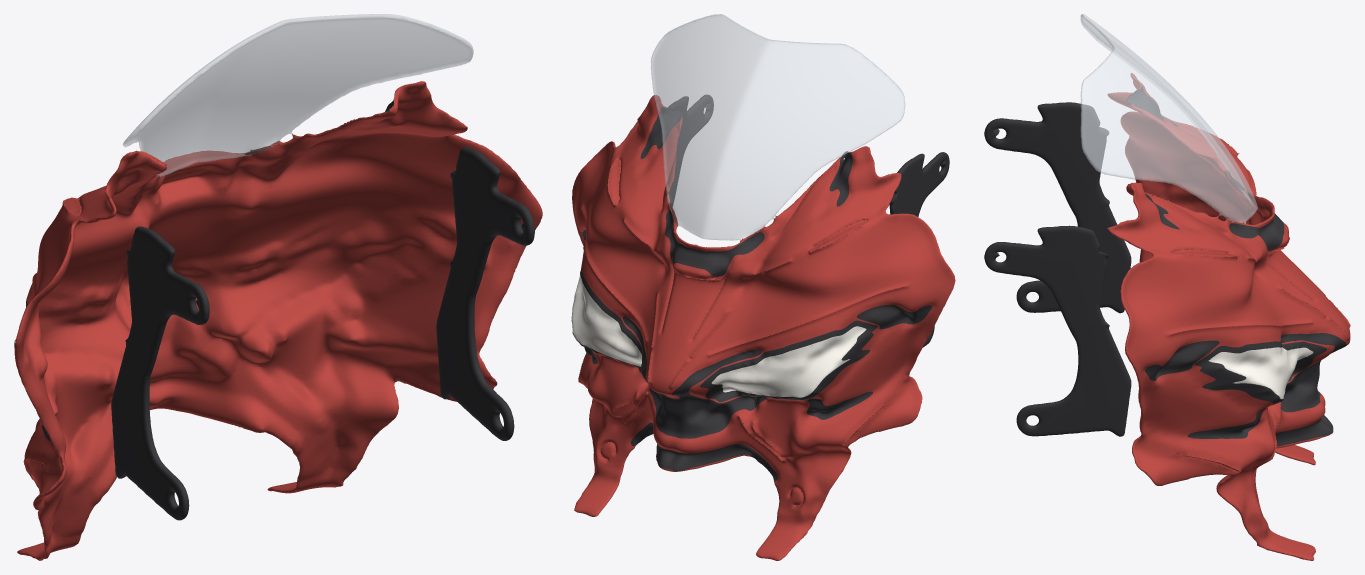
Rendered from naked_5.glb.
3 renders of one model, left to right at view 1: azimuth 30°, elevation 25°; view 2: azimuth 150°, elevation 25°; view 3: azimuth 270°, elevation 25°, orthographic. The views are drawn at different scales.
Parts seen in each view (by area): view 1: lod0; view 2: lod0; view 3: lod0.
Boxes of the visible parts, bbox=[...] form: lod0: bbox=[14, 14, 542, 560]; lod0: bbox=[571, 14, 955, 560]; lod0: bbox=[984, 14, 1350, 560].
Size of what is drawn, in the model's own units: 0.4161 by 0.4468 by 0.3219.
